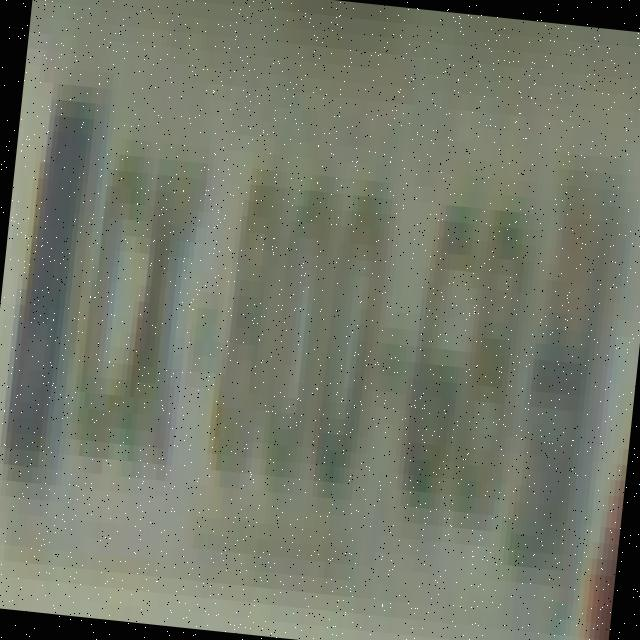Autre: (0, 71, 624, 619)
